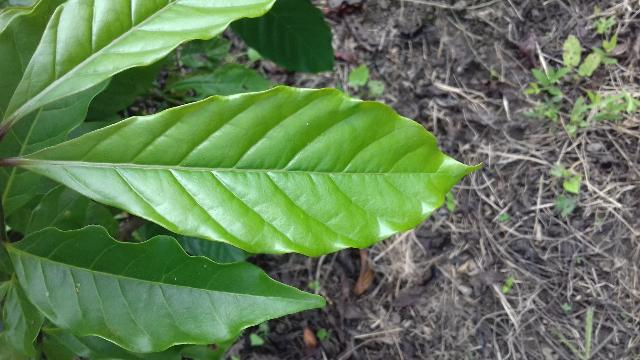healthy: (5, 87, 484, 254)
